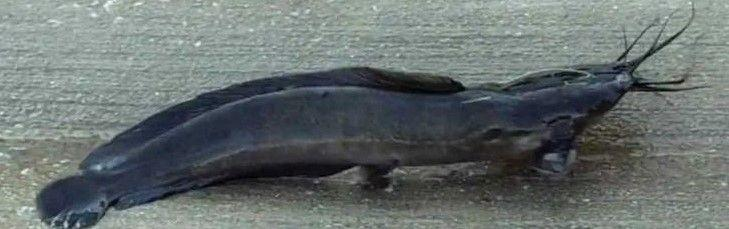Catfish: (33, 18, 716, 227)
